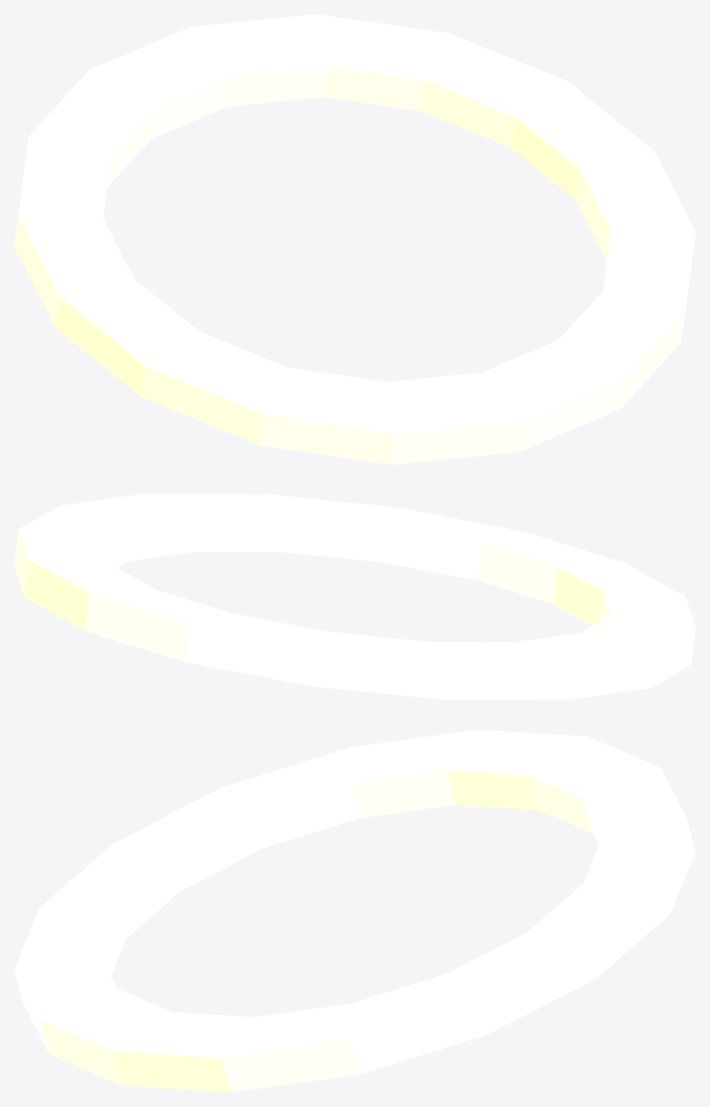
The model's file is Hat_Halo.fbx.
3 views of the same model, one above another, from view 1: azimuth 30°, elevation 25°; view 2: azimuth 150°, elevation 25°; view 3: azimuth 270°, elevation 25° (orthographic).
Parts seen in each view (by area): view 1: Halo; view 2: Halo; view 3: Halo.
Boxes of the visible parts, box(x1,y1,x2,y2) form: Halo: box(14, 14, 695, 464); Halo: box(14, 493, 695, 700); Halo: box(14, 729, 695, 1092).
Bounding box in the file's own units: 1.6 × 0.4744 × 1.57.
